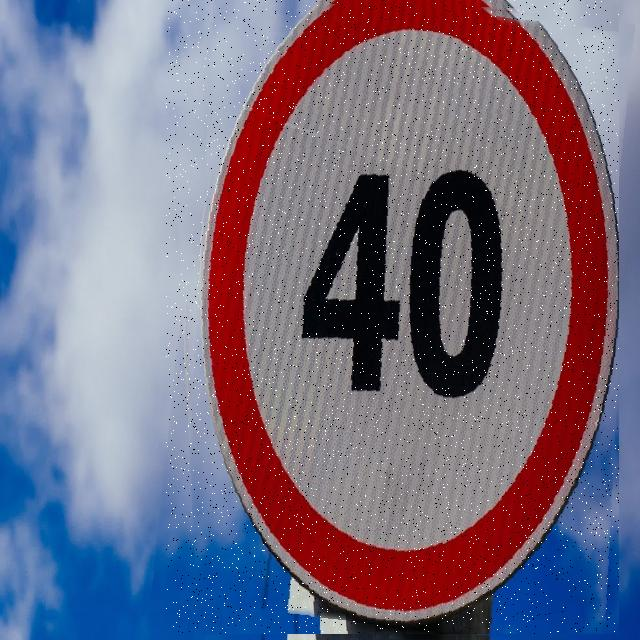speed limit 40: (166, 0, 619, 634)
